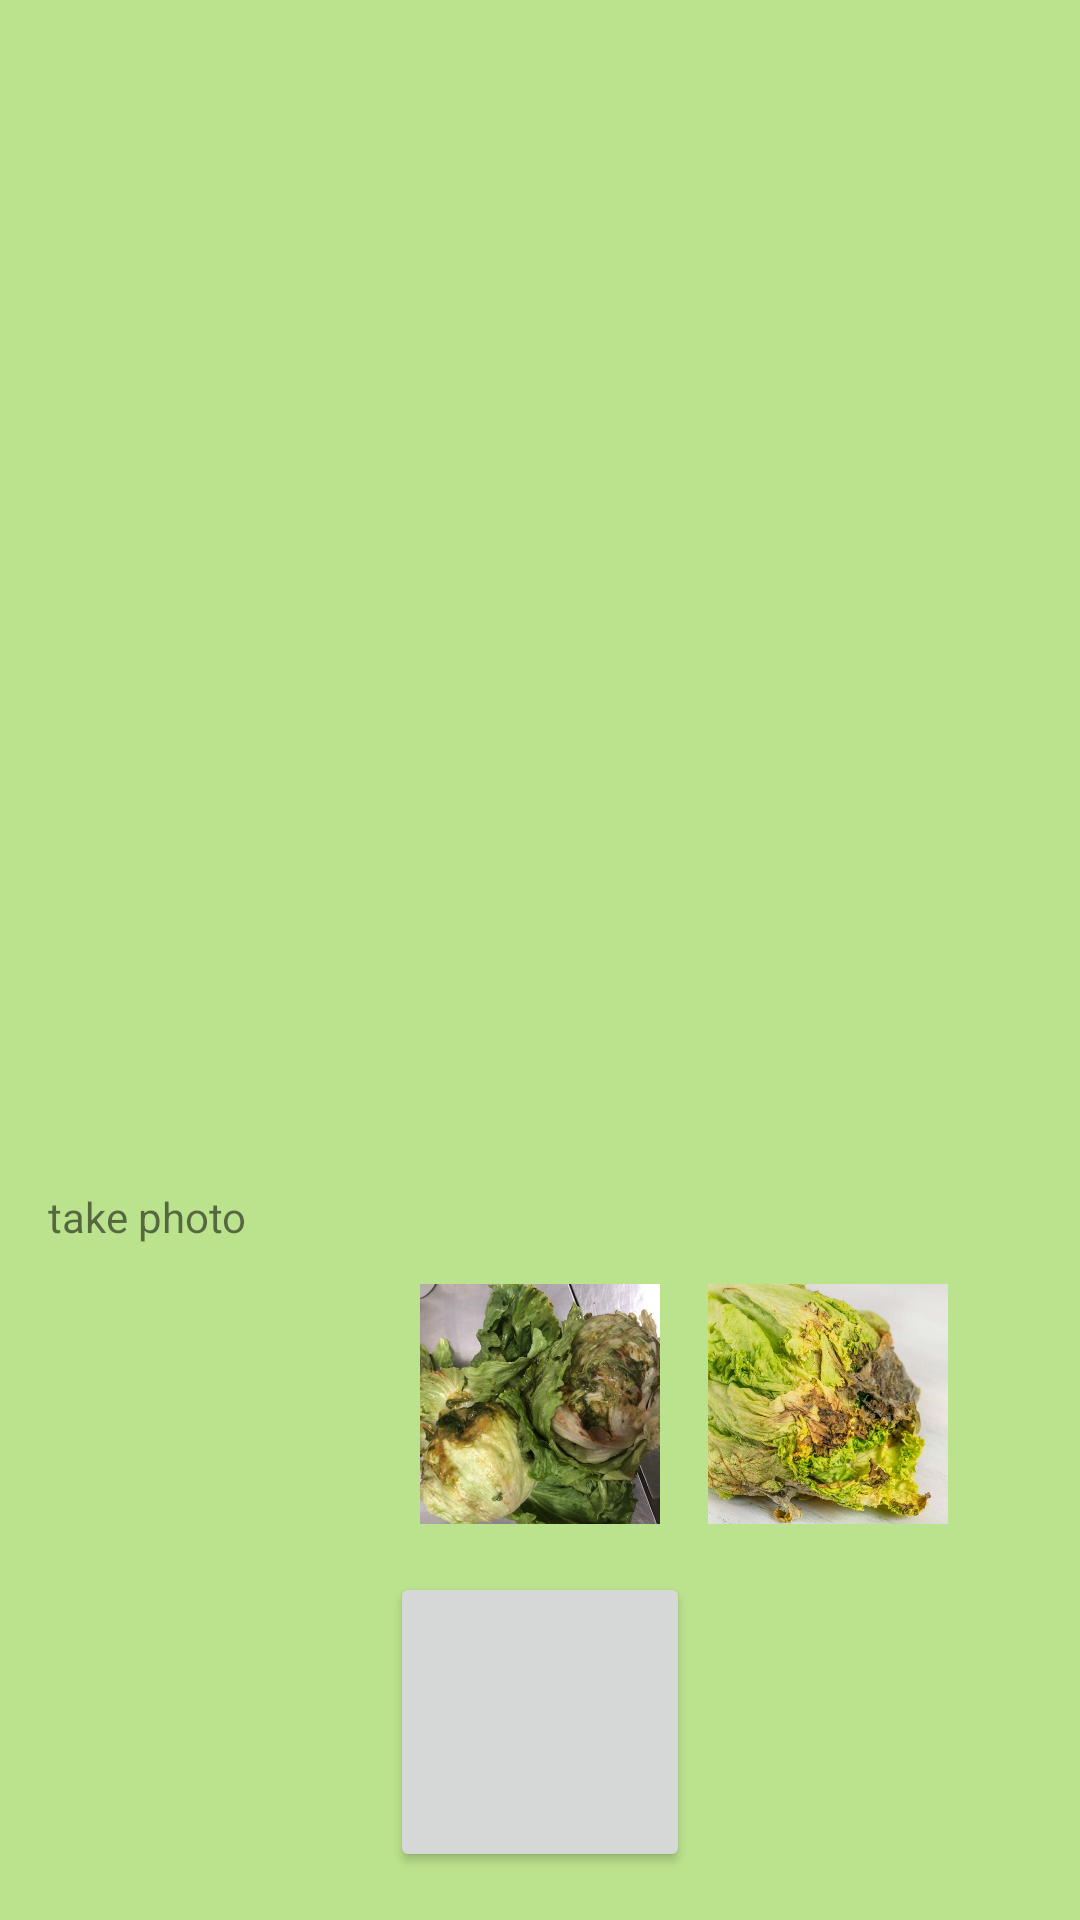

Icon click points for this 1080px×1920px phone screenshot, format [x,y]:
spoiled three: [828,1404]
spoiled two: [540,1404]
